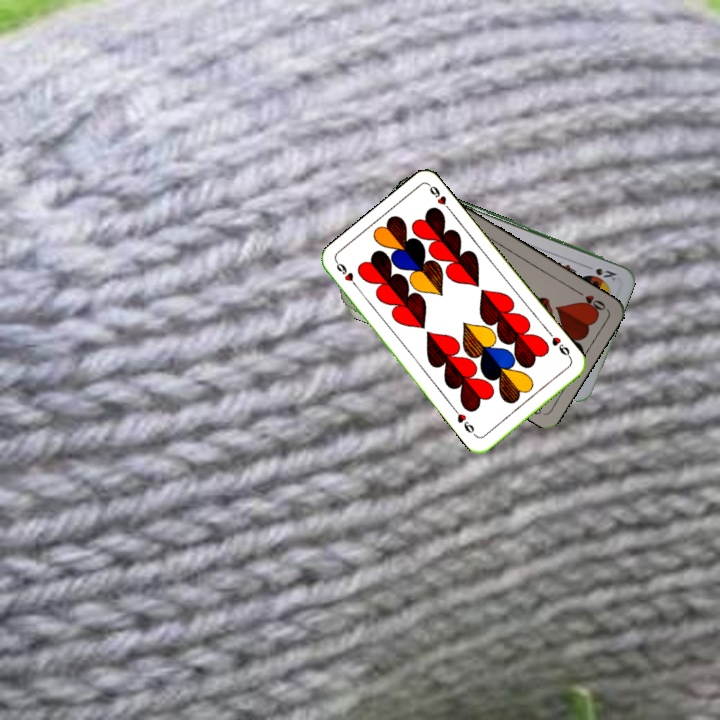H9: (332, 258, 362, 292), (545, 328, 574, 362)
HO: (572, 286, 608, 315)
SK: (591, 264, 619, 283)
